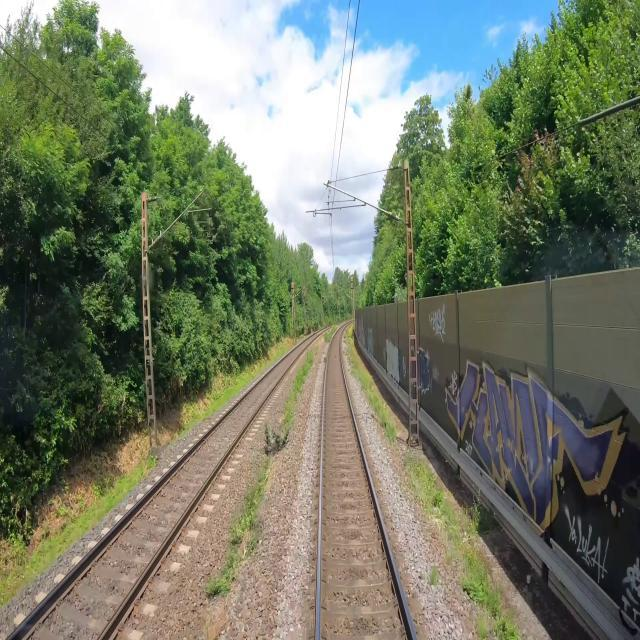Plant: (202, 345, 319, 599), (323, 326, 338, 344)
